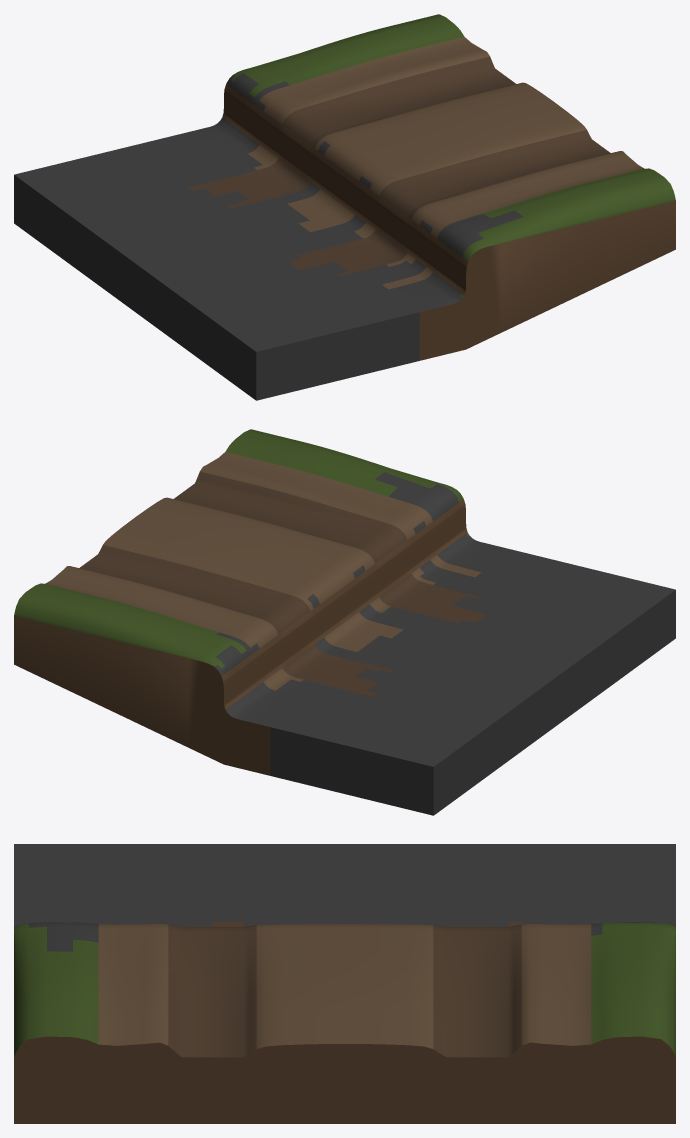
3 renders of one model, top to bottom at view 1: azimuth 30°, elevation 25°; view 2: azimuth 150°, elevation 25°; view 3: azimuth 270°, elevation 25°, orthographic. The views are drawn at different scales.
Parts seen in each view (by area): view 1: k1u; view 2: k1u; view 3: k1u.
Boxes of the visible parts, left/top/right/bottom form: k1u: left=14, top=14, right=675, bottom=400; k1u: left=14, top=429, right=675, bottom=815; k1u: left=14, top=844, right=675, bottom=1123.
Size of the model in its own units: 9 by 2.31 by 9.
